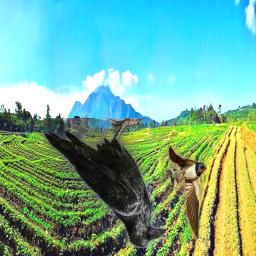Crow: (43, 118, 166, 248)
Swallow: (151, 145, 207, 239)
